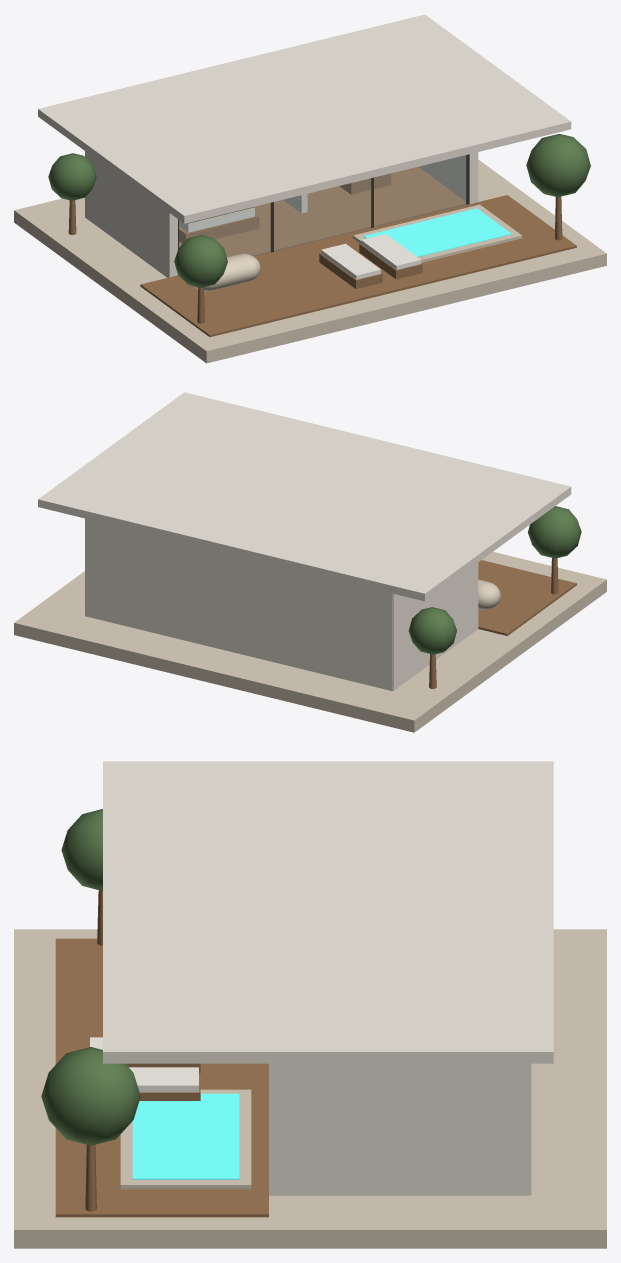
The model's file is villa.glb.
The picture shows the model from 3 angles, top to bottom: view 1: azimuth 30°, elevation 25°; view 2: azimuth 150°, elevation 25°; view 3: azimuth 270°, elevation 25°; orthographic projection. The views are drawn at different scales.
Visible parts, largest first — view 1: roof, plinth, terrace, glazing, floor, villa, wall-west, pool, daybed-cushion (×2), wall-east, pool-edge, daybed (×2) (+4 smaller); view 2: roof, wall-back, plinth, wall-west, villa, terrace, tub; view 3: roof, plinth, wall-east, terrace, villa, pool, pool-edge, daybed-cushion.
Boxes of the visible parts, left/top/right/bottom form: roof: left=38, top=14, right=571, bottom=223; plinth: left=14, top=159, right=606, bottom=363; terrace: left=140, top=195, right=576, bottom=337; glazing: left=179, top=155, right=466, bottom=256; floor: left=179, top=166, right=466, bottom=257; villa: left=48, top=134, right=590, bottom=323; wall-west: left=85, top=151, right=177, bottom=277; pool: left=363, top=208, right=511, bottom=256; daybed-cushion (×2): left=321, top=234, right=421, bottom=279; wall-east: left=419, top=152, right=478, bottom=204; pool-edge: left=353, top=204, right=522, bottom=262; daybed (×2): left=319, top=243, right=422, bottom=288; roof: left=38, top=392, right=571, bottom=601; wall-back: left=85, top=518, right=392, bottom=690; plinth: left=14, top=552, right=606, bottom=732; wall-west: left=392, top=563, right=478, bottom=690; villa: left=408, top=506, right=581, bottom=688; terrace: left=478, top=560, right=576, bottom=635; tub: left=478, top=579, right=500, bottom=609; roof: left=103, top=761, right=553, bottom=1063; plinth: left=14, top=929, right=606, bottom=1248; wall-east: left=269, top=1063, right=529, bottom=1195; terrace: left=55, top=938, right=268, bottom=1217; villa: left=41, top=809, right=140, bottom=1211; pool: left=132, top=1093, right=239, bottom=1179; pool-edge: left=120, top=1089, right=251, bottom=1189; daybed-cushion: left=129, top=1067, right=198, bottom=1092.
Bounding box in the file's own units: 12.17 × 3.57 × 10.
